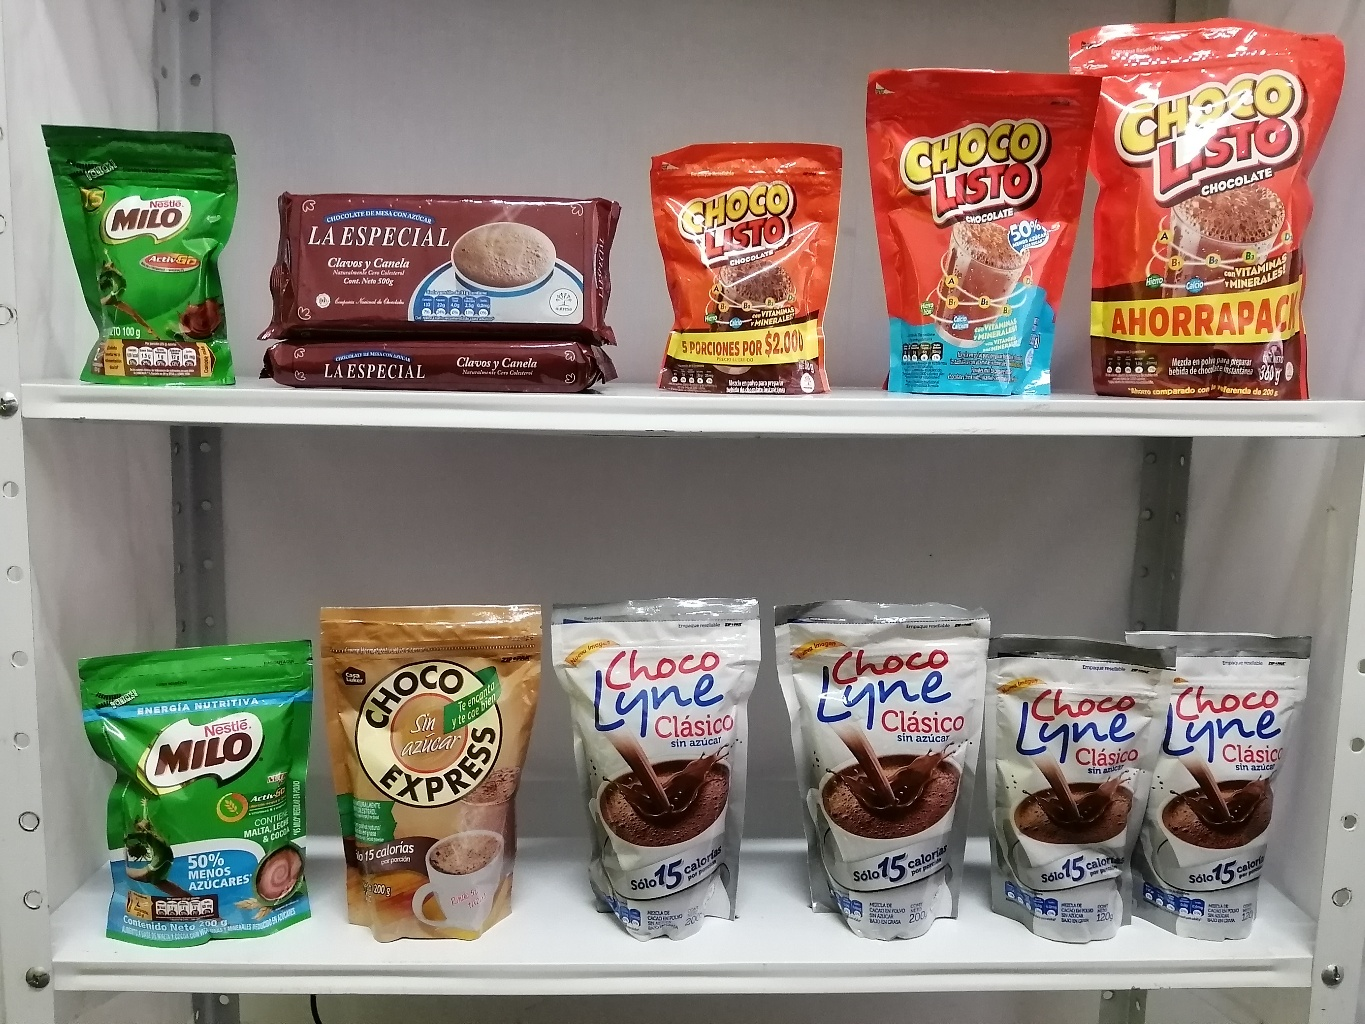COL0170103DYP36000: (1067, 6, 1352, 392)
COL0170104DYP20000: (856, 55, 1097, 404)
COL0170203DYP10000: (35, 116, 248, 392)
COL0170205DYP20000: (63, 631, 336, 939)
